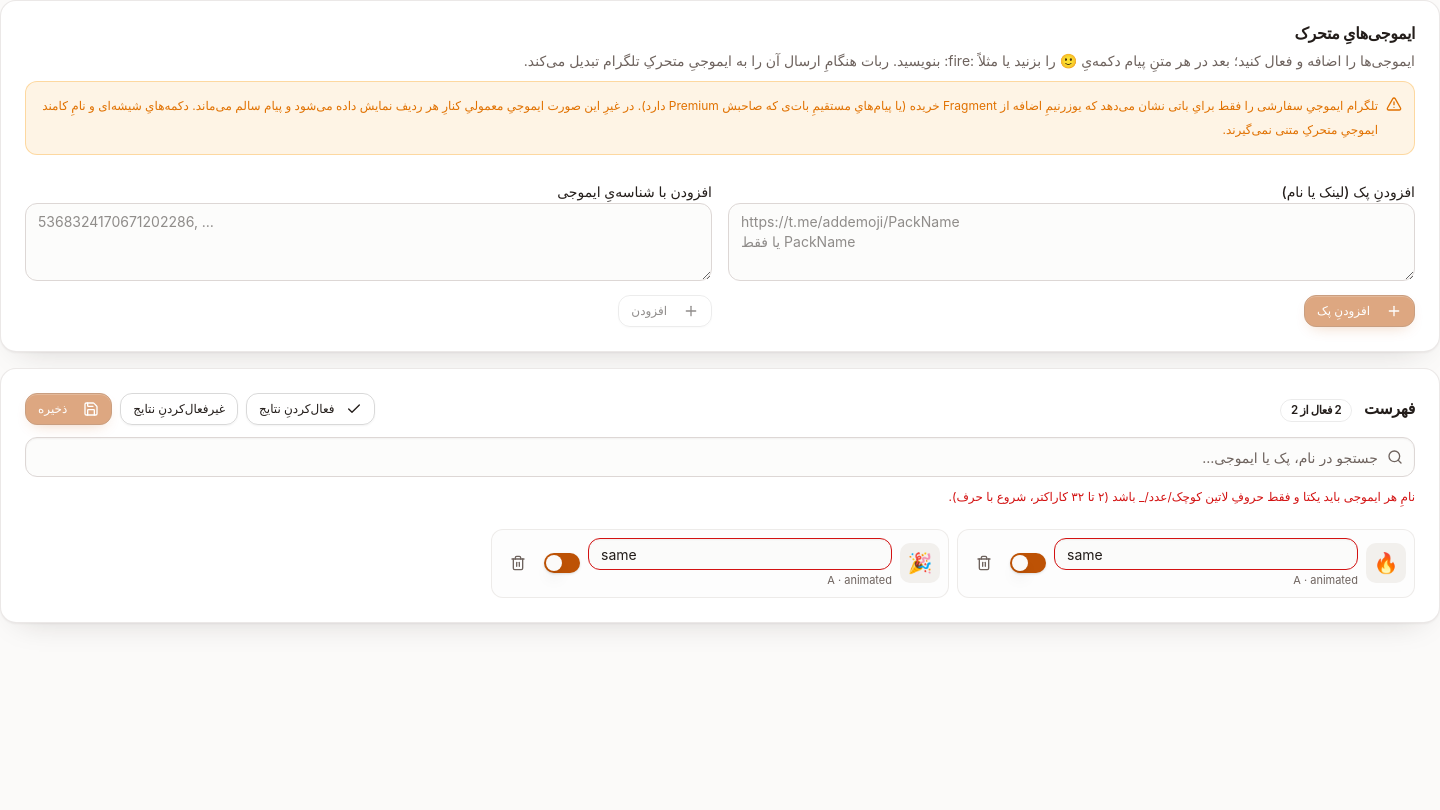
CustomEmojiManager › editing one of two clashing names does not change the other (edit by id)
This screenshot has width=1440, height=810.
Later steps or results of the test are not shown.
Type "x" into the 2nd field showing "same". click: (1206,554)
box: [1054,538,1358,570]
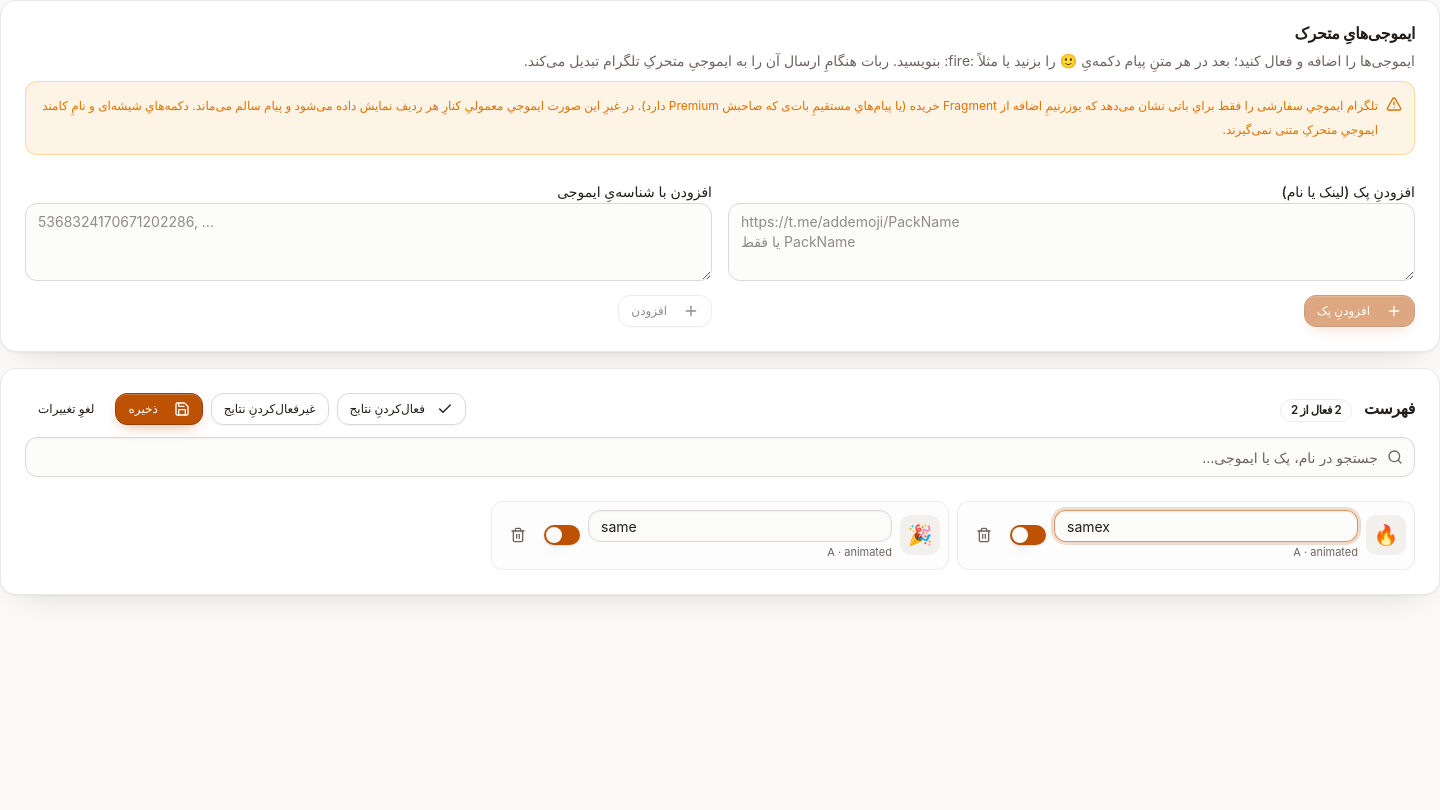
Check: the field showing "same" holds "same", box [588,510,892,542]
Check: the field showing "same" holds "samex", box [1054,510,1358,542]
